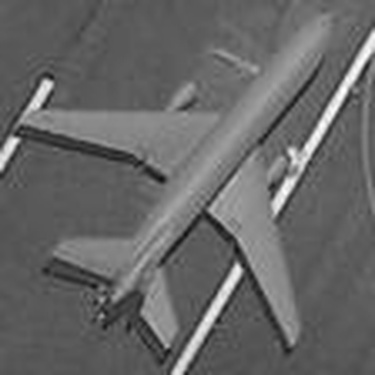airplane: (12, 8, 352, 366)
